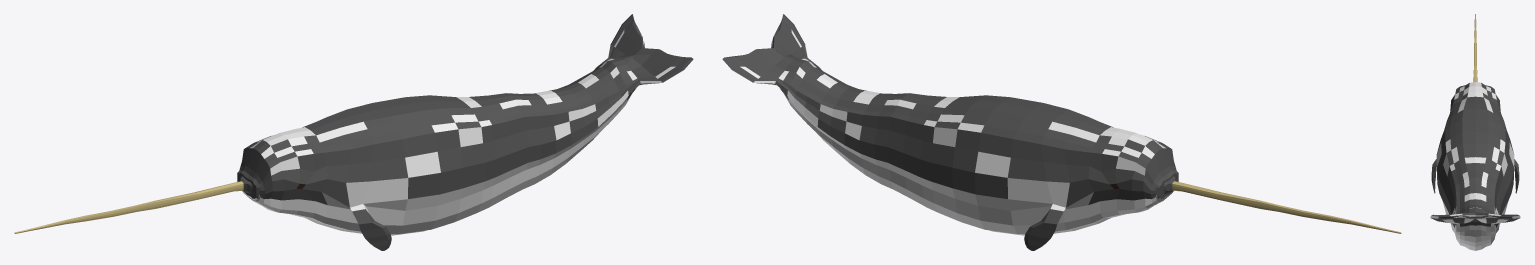
The model's file is narval.fbx.
3 views of the same model, side by side, from view 1: azimuth 30°, elevation 25°; view 2: azimuth 150°, elevation 25°; view 3: azimuth 270°, elevation 25° (orthographic). The views are drawn at different scales.
Visible parts, largest first — view 1: Plane; view 2: Plane; view 3: Plane.
Part boxes in pixels (x1,y1,x2,y2): Plane: [14, 14, 693, 250]; Plane: [722, 14, 1401, 250]; Plane: [1430, 14, 1520, 250].
Bounding box in the file's own units: 479 × 91.85 × 79.59.
